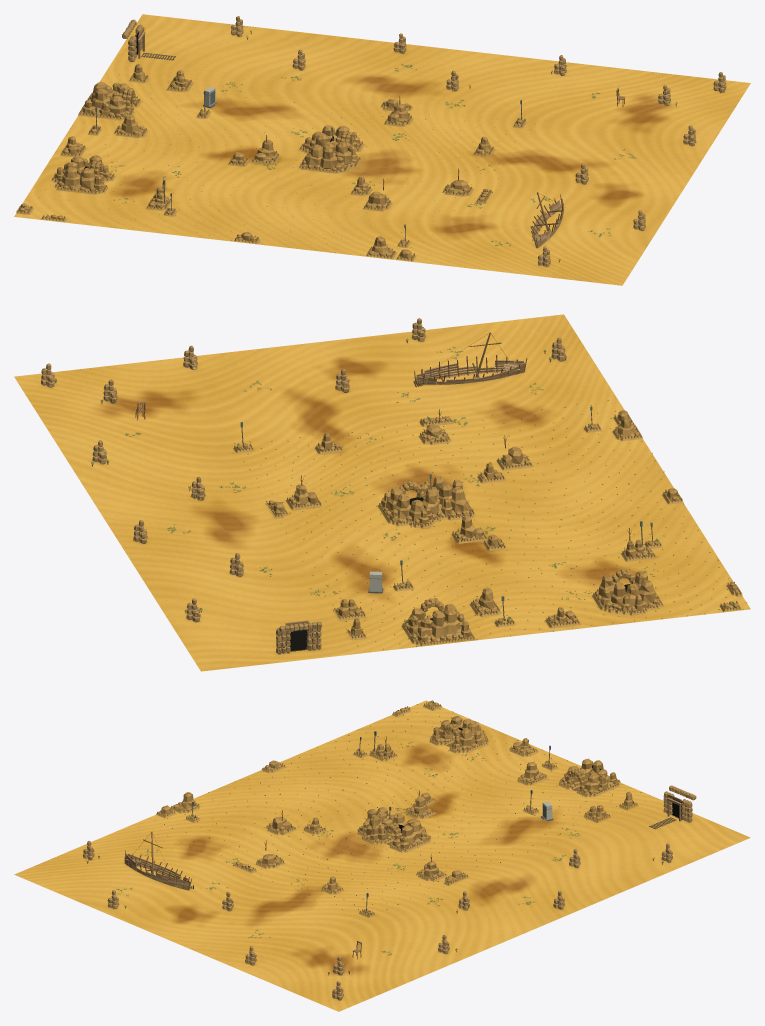
Rendered from hm16-terrain-props.glb.
3 views of the same model, one above another, from view 1: azimuth 30°, elevation 25°; view 2: azimuth 150°, elevation 25°; view 3: azimuth 270°, elevation 25° (orthographic). The views are drawn at different scales.
Parts seen in each view (by area): view 1: HM16-chunk-2-2, HM16-chunk-0-0, HM16-chunk-4-0, HM16-chunk-1-3, HM16-chunk-0-1, HM16-chunk-4-3, HM16-chunk-0-5, HM16-chunk-3-3, HM16-chunk-4-1, HM16-chunk-1-5, HM16-chunk-3-1, HM16-chunk-5-2 (+24 smaller); view 2: HM16-chunk-3-2, HM16-chunk-1-4, HM16-chunk-5-0, HM16-chunk-2-1, HM16-chunk-1-0, HM16-chunk-0-4, HM16-chunk-1-2, HM16-chunk-4-4, HM16-chunk-5-5, HM16-chunk-0-3, HM16-chunk-4-5, HM16-chunk-5-4 (+24 smaller); view 3: HM16-chunk-1-0, HM16-chunk-4-0, HM16-chunk-1-5, HM16-chunk-3-0, HM16-chunk-5-1, HM16-chunk-3-2, HM16-chunk-0-3, HM16-chunk-5-0, HM16-chunk-3-3, HM16-chunk-3-1, HM16-chunk-0-5, HM16-chunk-2-5 (+24 smaller).
Boxes of the visible parts, x1,y1,x2,y2 form: HM16-chunk-2-2: [260, 125, 382, 183]; HM16-chunk-0-0: [14, 168, 136, 228]; HM16-chunk-4-0: [100, 23, 222, 93]; HM16-chunk-1-3: [340, 176, 461, 228]; HM16-chunk-0-1: [116, 177, 237, 239]; HM16-chunk-4-3: [407, 70, 526, 127]; HM16-chunk-0-5: [521, 213, 643, 285]; HM16-chunk-3-3: [382, 104, 504, 161]; HM16-chunk-4-1: [201, 50, 323, 104]; HM16-chunk-1-5: [537, 198, 664, 251]; HM16-chunk-3-1: [180, 87, 301, 138]; HM16-chunk-5-2: [324, 33, 446, 82]; HM16-chunk-3-2: [291, 475, 413, 552]; HM16-chunk-1-4: [412, 332, 534, 432]; HM16-chunk-5-0: [170, 598, 292, 671]; HM16-chunk-2-1: [414, 509, 536, 591]; HM16-chunk-1-0: [537, 569, 658, 629]; HM16-chunk-0-4: [503, 358, 624, 422]; HM16-chunk-1-2: [474, 472, 596, 531]; HM16-chunk-4-4: [137, 401, 259, 464]; HM16-chunk-5-5: [14, 363, 135, 425]; HM16-chunk-0-3: [535, 406, 657, 471]; HM16-chunk-4-5: [106, 345, 227, 415]; HM16-chunk-5-4: [45, 402, 167, 474]; HM16-chunk-1-0: [412, 716, 533, 774]; HM16-chunk-4-0: [574, 785, 696, 843]; HM16-chunk-1-5: [68, 858, 190, 920]; HM16-chunk-3-0: [520, 758, 641, 820]; HM16-chunk-5-1: [560, 843, 681, 895]; HM16-chunk-3-2: [383, 825, 504, 876]; HM16-chunk-0-3: [152, 787, 273, 839]; HM16-chunk-5-0: [628, 793, 750, 866]; HM16-chunk-3-3: [314, 856, 436, 907]; HM16-chunk-3-1: [451, 790, 573, 849]; HM16-chunk-0-5: [14, 841, 140, 897]; HM16-chunk-2-5: [122, 891, 244, 943].
Size of the model in its own units: 144 by 9.21 by 144.
2 materials, 1 textured.
